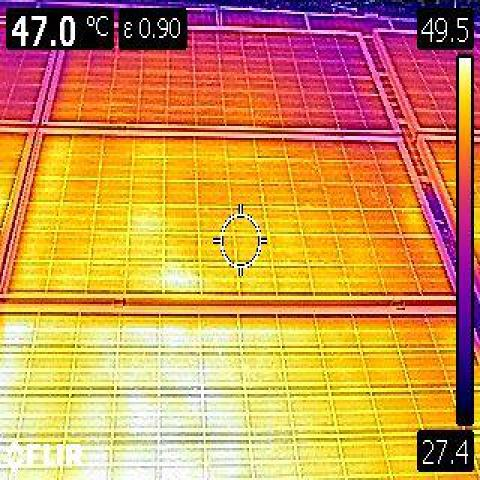fault: (0, 319, 239, 480), (163, 263, 198, 291)
